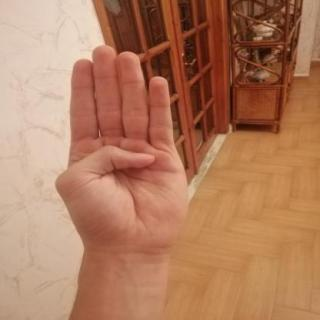KAAF: (40, 39, 204, 260)
